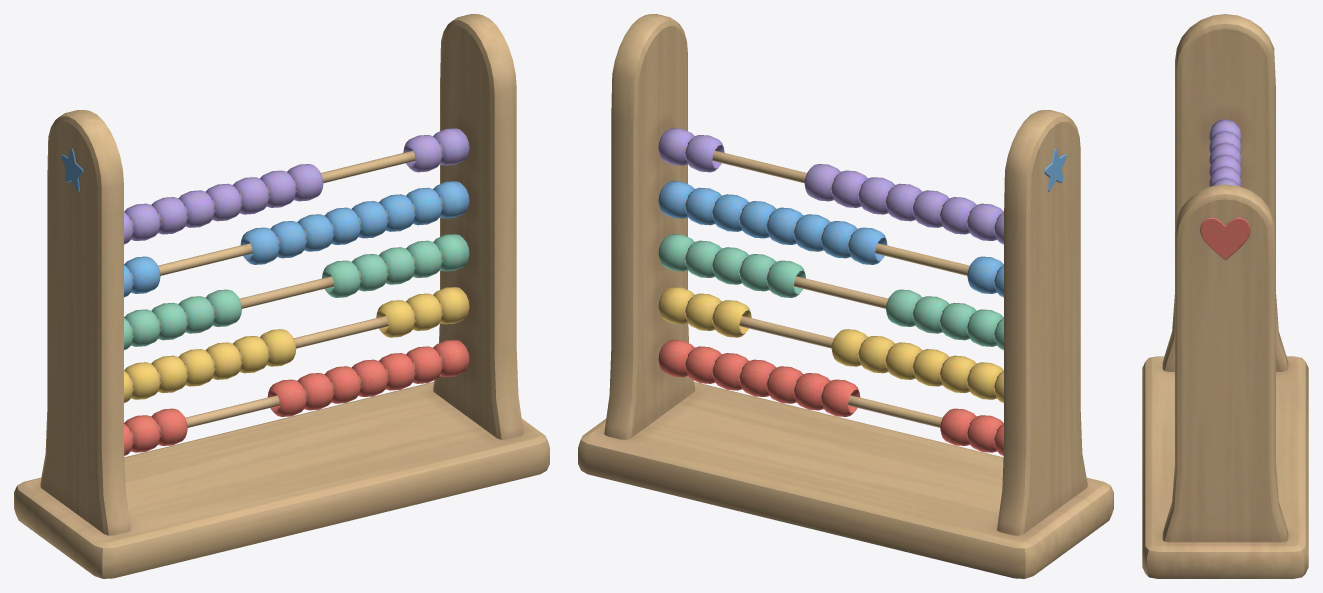
Rendered from abaco.glb.
3 views of the same model, side by side, from view 1: azimuth 30°, elevation 25°; view 2: azimuth 150°, elevation 25°; view 3: azimuth 270°, elevation 25° (orthographic). The views are drawn at different scales.
Visible parts, largest first — view 1: abacus_body; view 2: abacus_body; view 3: abacus_body.
Boxes of the visible parts, <box> form: abacus_body: <box>14,14,549,578</box>; abacus_body: <box>578,14,1113,578</box>; abacus_body: <box>1142,14,1308,578</box>.
Bounding box in the file's own units: 0.316 × 0.284 × 0.112.
Materials: 1 (1 with a texture image).
